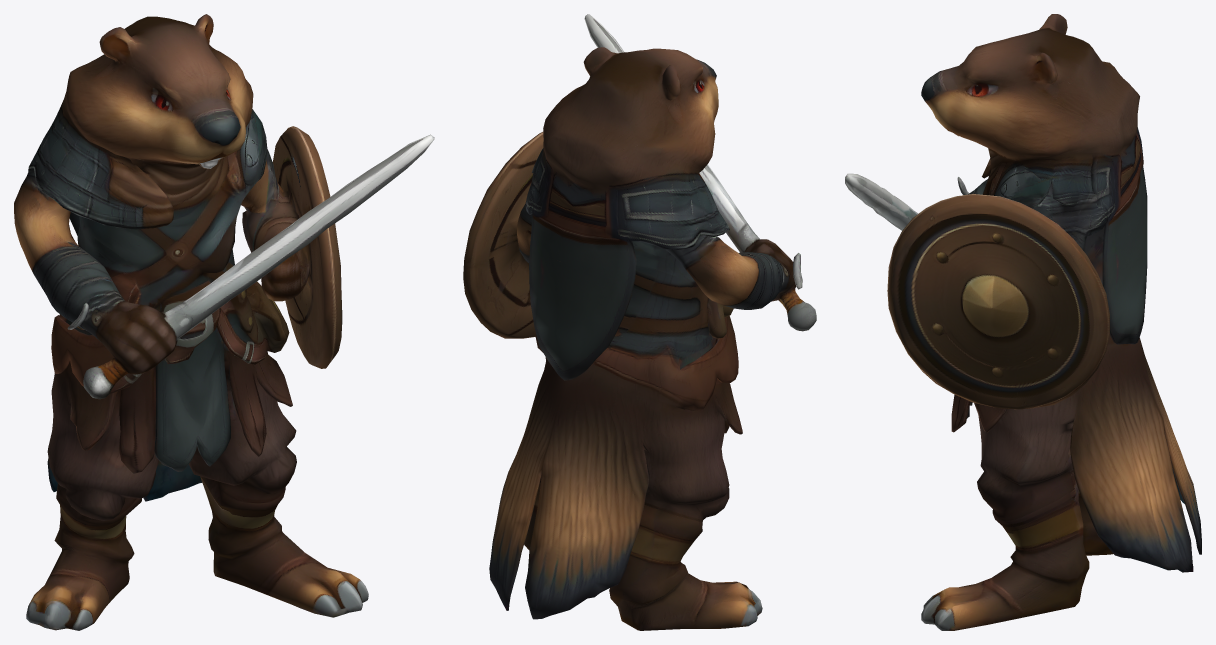
Rendered from beaver-warrior.glb.
The picture shows the model from 3 angles, left to right: view 1: azimuth 30°, elevation 25°; view 2: azimuth 150°, elevation 25°; view 3: azimuth 270°, elevation 25°; orthographic projection. The views are drawn at different scales.
Bounding box in the file's own units: 1.04 × 1.91 × 1.15.
Materials: 1 (1 with a texture image).
